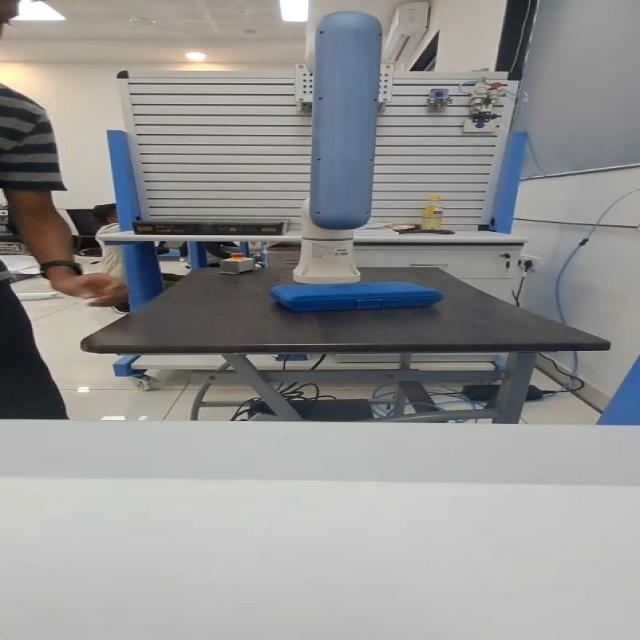top-surface: (290, 284, 420, 293)
